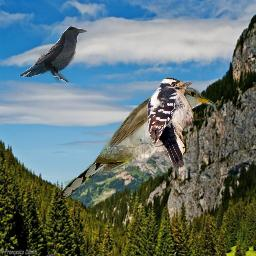Crow: (19, 26, 87, 82)
Cuckoo: (57, 85, 217, 201)
Woodpecker: (144, 76, 206, 169)
